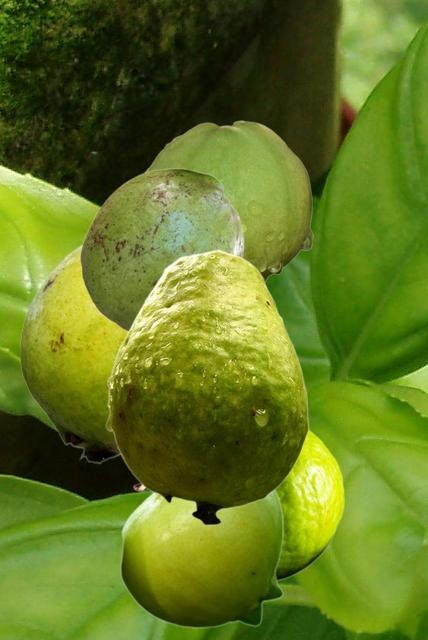guava: (105, 249, 308, 525), (144, 120, 312, 281), (79, 168, 243, 331), (19, 243, 126, 463), (119, 490, 283, 627), (277, 429, 343, 581)
